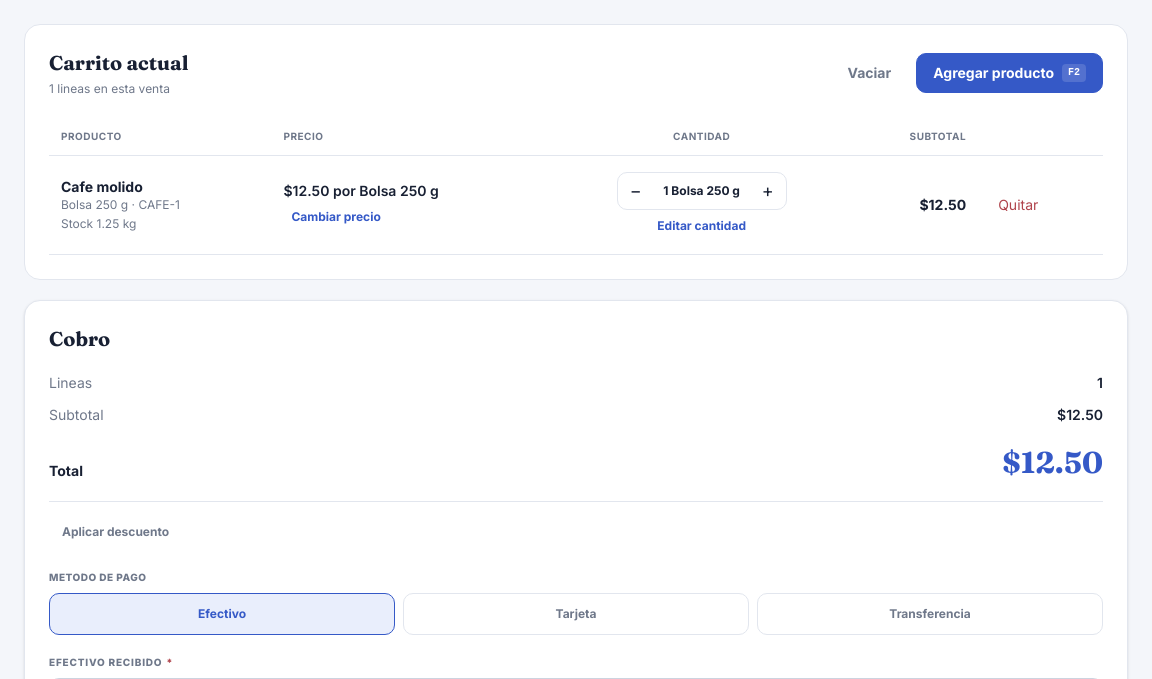
Test: PosView › cancels and unmounts discount previews without changing the cart
Click the button "Aplicar descuento". click: point(116, 532)
box: [49,514,182,550]
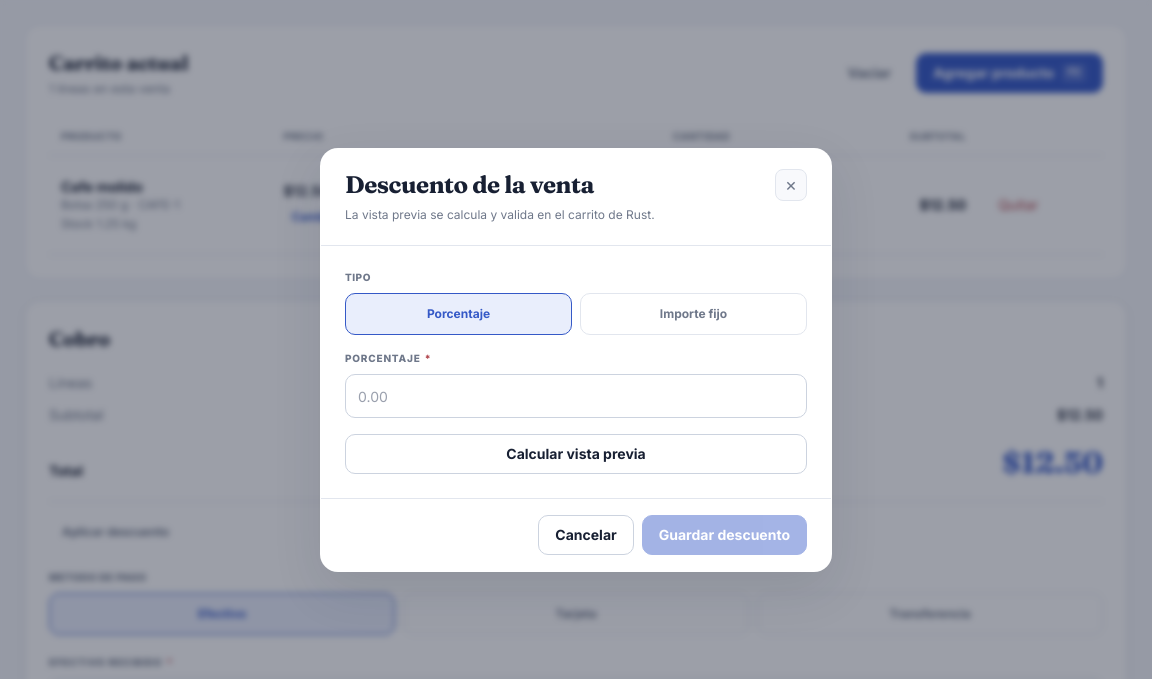
Type "10" into the field labelled "Porcentaje". click: point(576, 396)
box: [345,374,807,418]
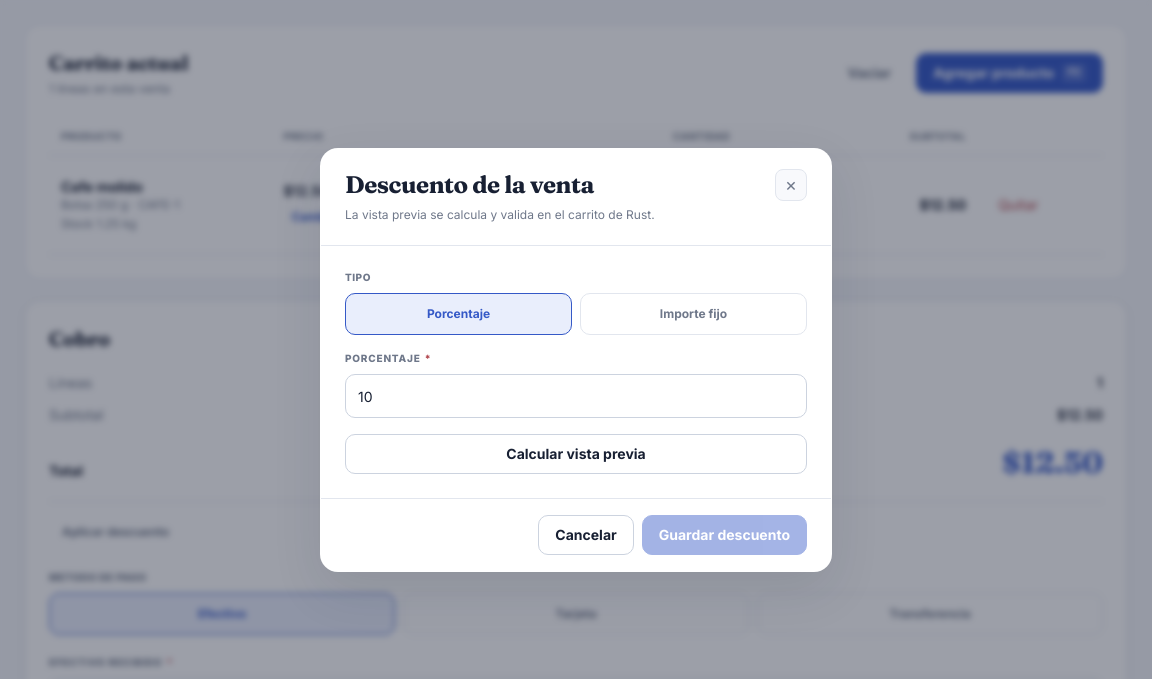
Click the button "Calcular vista previa". click: point(576, 454)
box: [345,434,807,474]
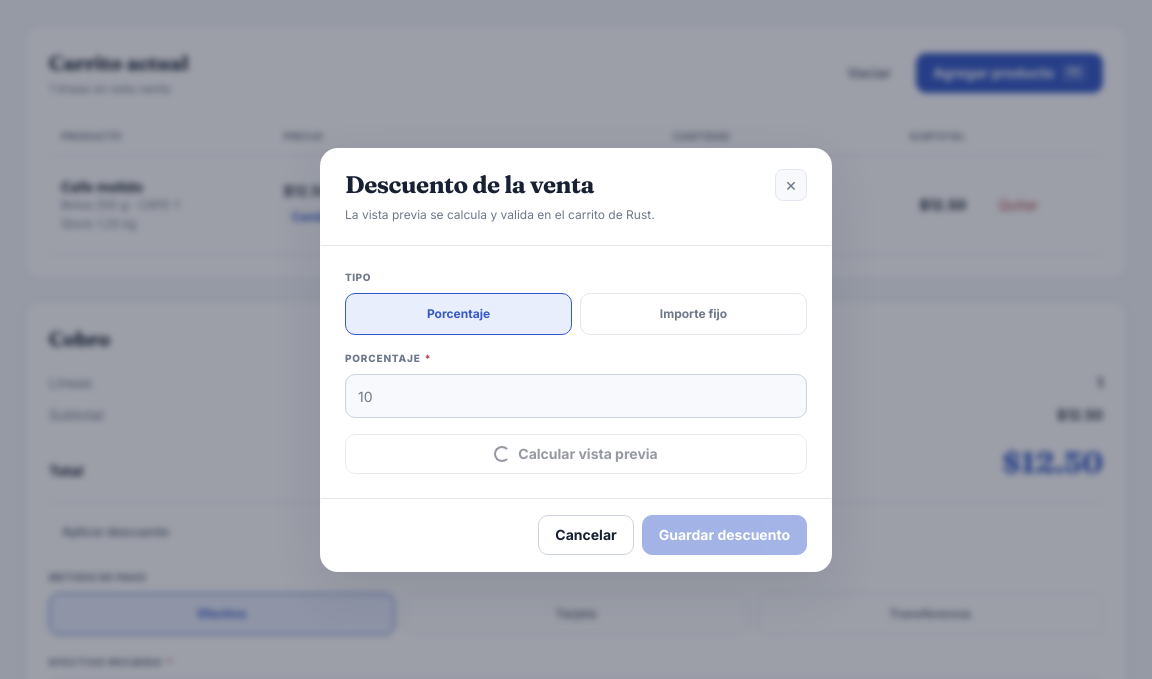
Click the button "Cancelar". click: point(586, 535)
box: [538,515,634,555]
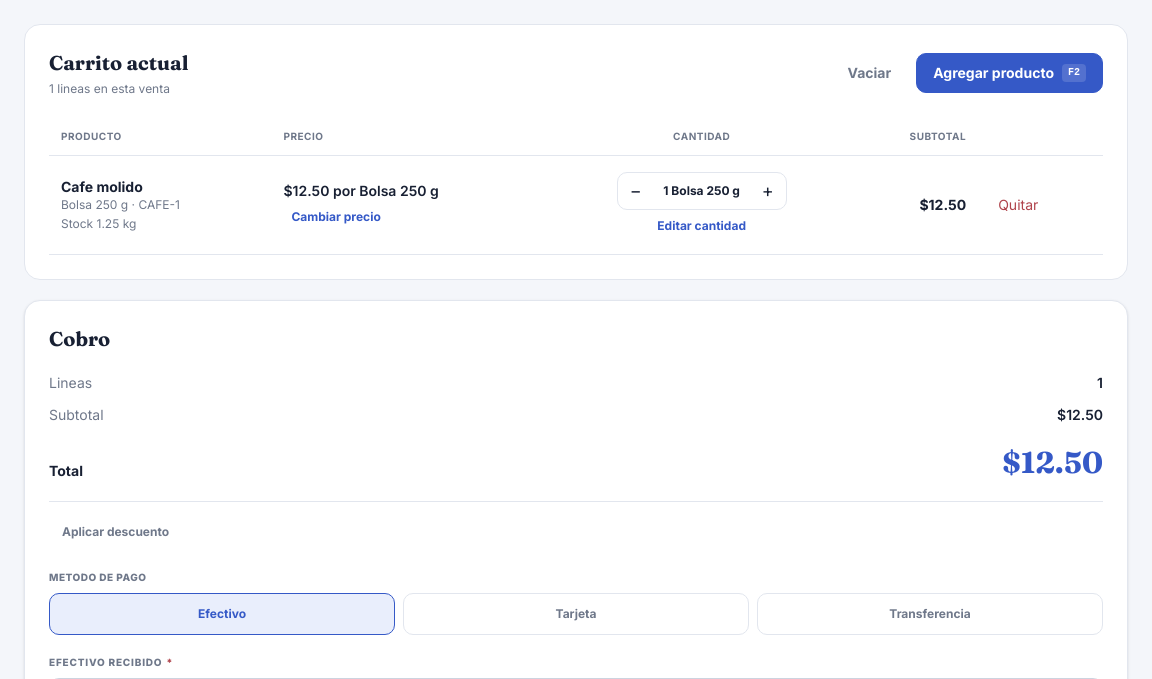
Result: the heading "Descuento de la venta" is gone
